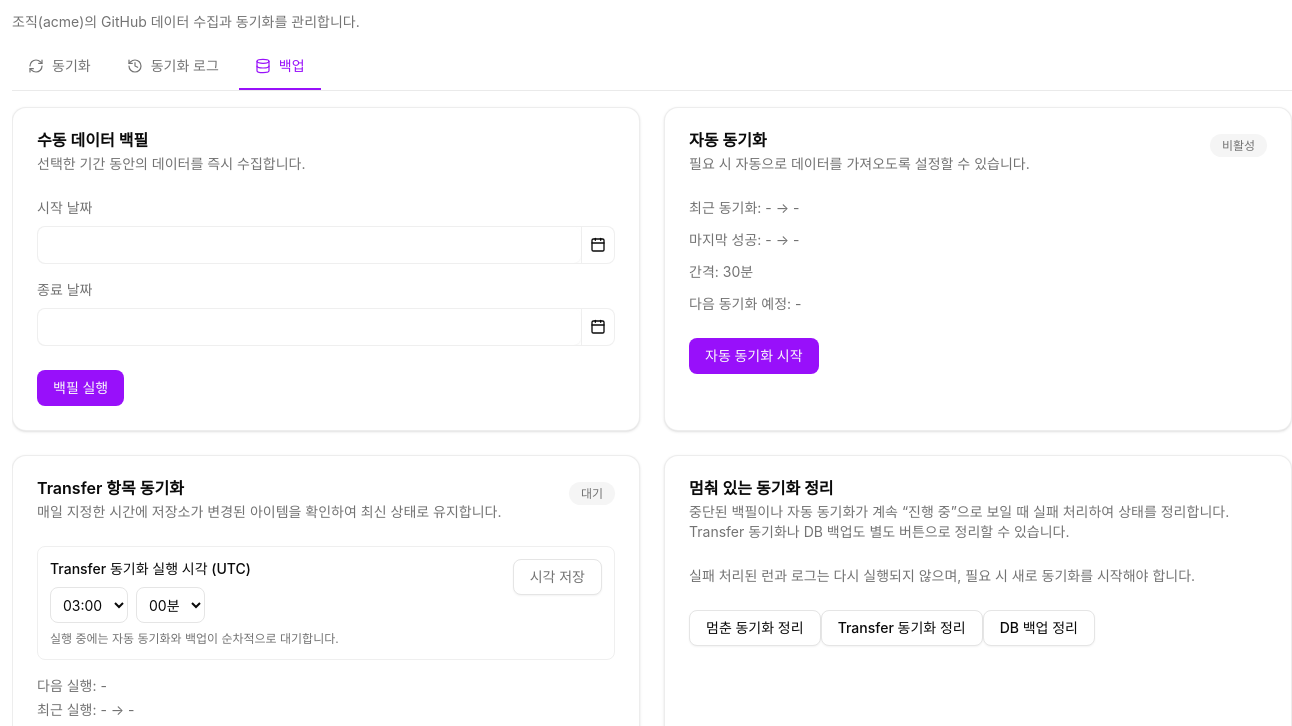
Test: SyncControls › shows an error when the automatic sync endpoint returns an empty body
Click the button "자동 동기화 시작": [754, 356] box [689,338,819,374]
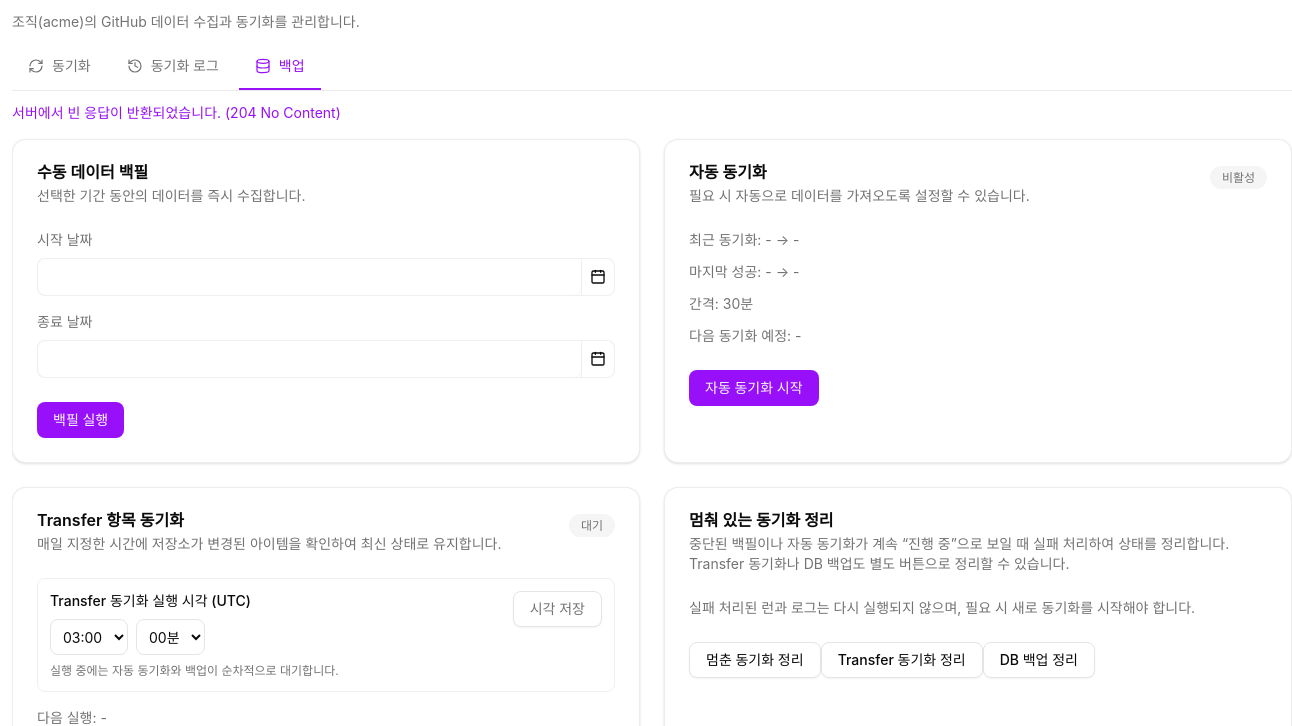
Result: the text "서버에서 빈 응답이 반환되었습니다. (204 No Content)" is shown at [12,104,341,121]
